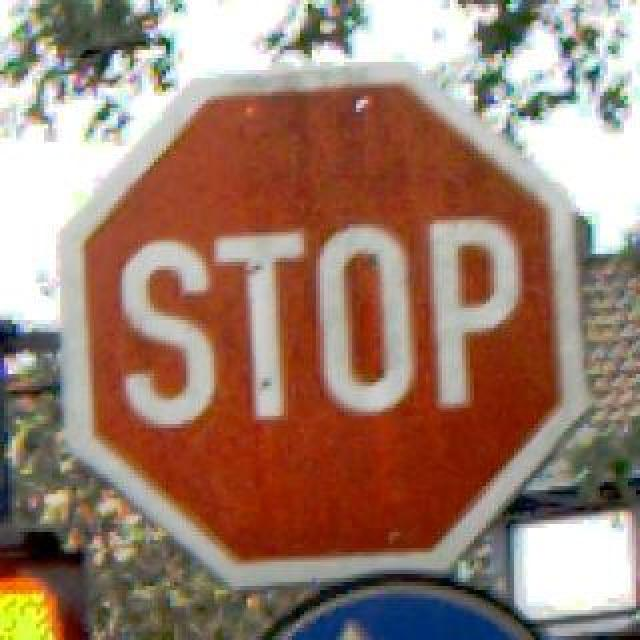stop: (58, 62, 592, 586)
